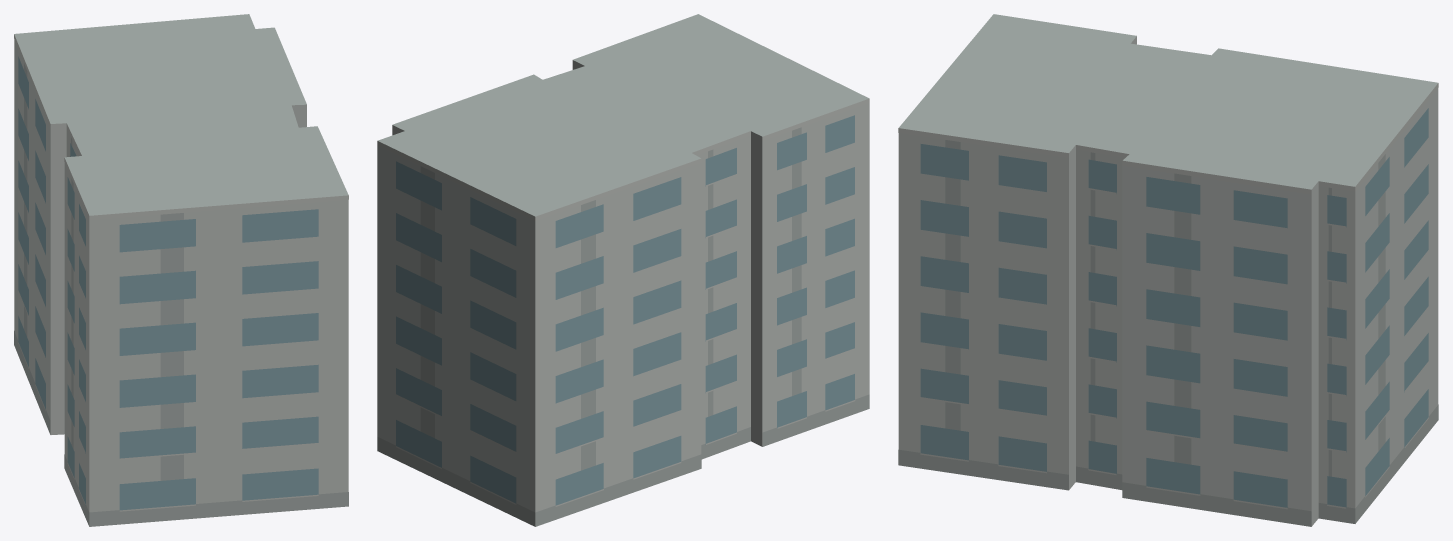
File: survey-upis-33026531.glb
3 views of the same model, side by side, from view 1: azimuth 30°, elevation 25°; view 2: azimuth 150°, elevation 25°; view 3: azimuth 270°, elevation 25° (orthographic). The views are drawn at different scales.
Visible parts, largest first — view 1: survey-upis-33026531.tmp; view 2: survey-upis-33026531.tmp; view 3: survey-upis-33026531.tmp.
Part boxes in pixels (box(x1,y1,x2,y2)): survey-upis-33026531.tmp: box(14, 14, 348, 526); survey-upis-33026531.tmp: box(377, 14, 869, 526); survey-upis-33026531.tmp: box(898, 14, 1438, 526).
Size of the model in its own units: 18.94 by 16.95 by 24.61.
